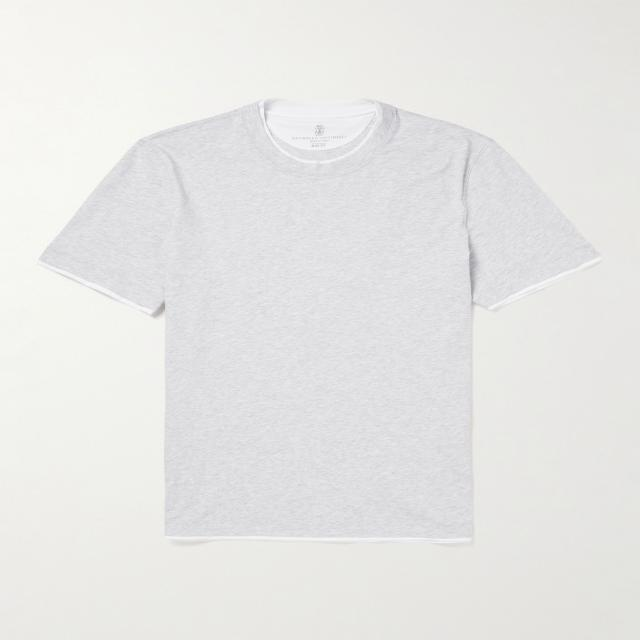tshirt: (37, 100, 598, 544)
